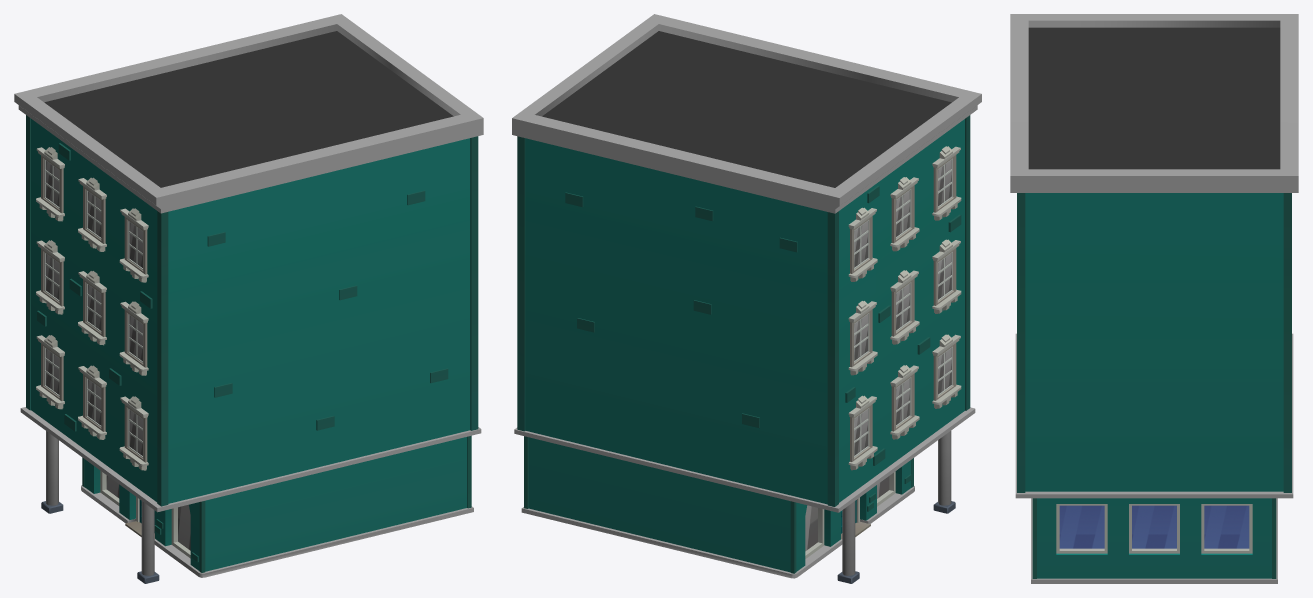
File: Building_4_A.fbx
The picture shows the model from 3 angles, left to right: view 1: azimuth 30°, elevation 25°; view 2: azimuth 150°, elevation 25°; view 3: azimuth 270°, elevation 25°; orthographic projection.
Visible parts, largest first — view 1: Building_4_A; view 2: Building_4_A; view 3: Building_4_A.
Boxes of the visible parts, x1,y1,x2,y2 form: Building_4_A: (14,14,483,583); Building_4_A: (512,14,981,583); Building_4_A: (1010,14,1298,583).
Size of the model in its own units: 1585 by 1855 by 1191.
